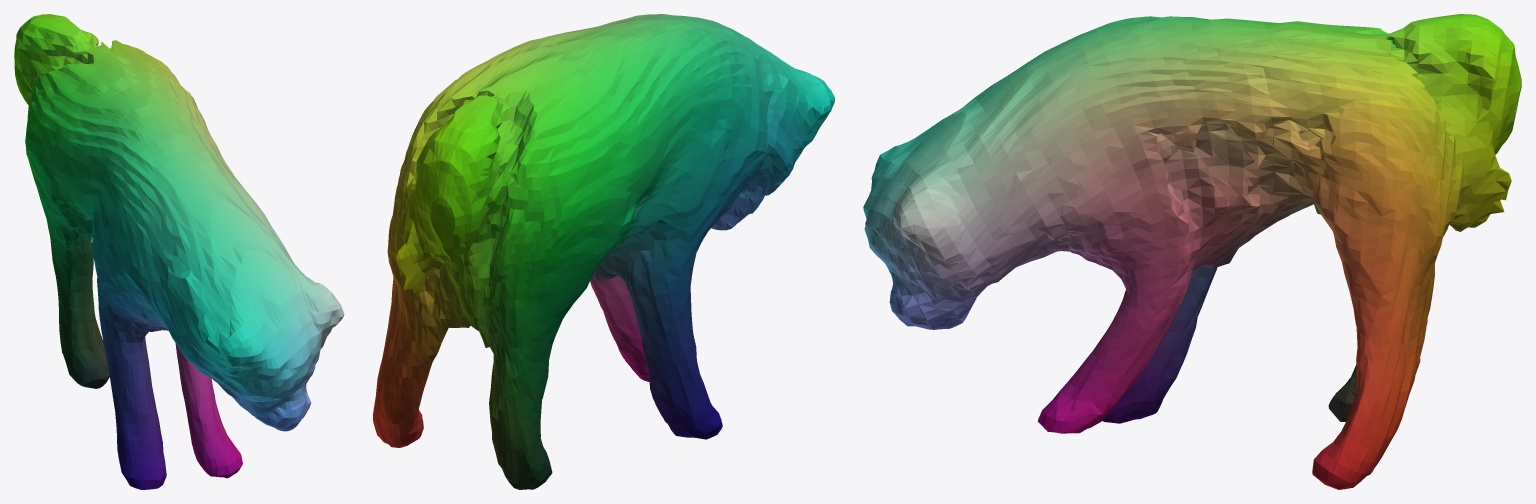
Rendered from shiba-haru-1001-mesh-00049.obj.
3 views of the same model, side by side, from view 1: azimuth 30°, elevation 25°; view 2: azimuth 150°, elevation 25°; view 3: azimuth 270°, elevation 25° (orthographic). The views are drawn at different scales.
Size of the model in its own units: 0.0519 by 0.0849 by 0.1183.
